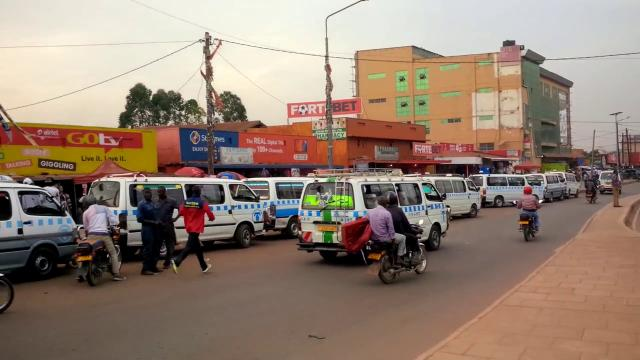motorcycle: (359, 207, 430, 283), (73, 220, 126, 278), (517, 204, 541, 241), (586, 185, 598, 204)
van: (90, 173, 267, 246), (301, 174, 449, 260), (0, 175, 81, 282), (239, 176, 314, 240), (422, 173, 483, 219), (472, 168, 543, 206), (538, 171, 569, 201), (598, 169, 623, 194), (563, 172, 582, 198)
